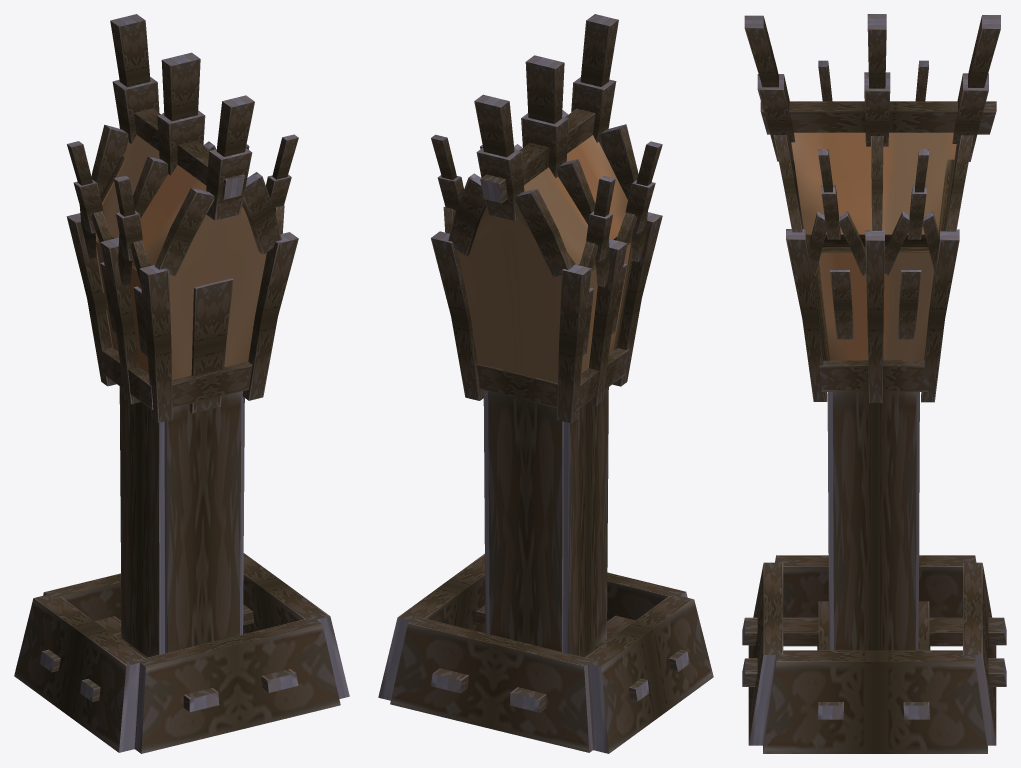
File: tile_tower.fbx
3 views of the same model, side by side, from view 1: azimuth 30°, elevation 25°; view 2: azimuth 150°, elevation 25°; view 3: azimuth 270°, elevation 25° (orthographic). The views are drawn at different scales.
Visible parts, largest first — view 1: Cylinder002544; view 2: Cylinder002544; view 3: Cylinder002544.
Part boxes in pixels (bbox=[...]): Cylinder002544: bbox=[14, 14, 349, 753]; Cylinder002544: bbox=[378, 14, 713, 753]; Cylinder002544: bbox=[742, 14, 1006, 753].
Bounding box in the file's own units: 1.67 × 1.52 × 4.27.
Materials: 2 (2 with a texture image).
